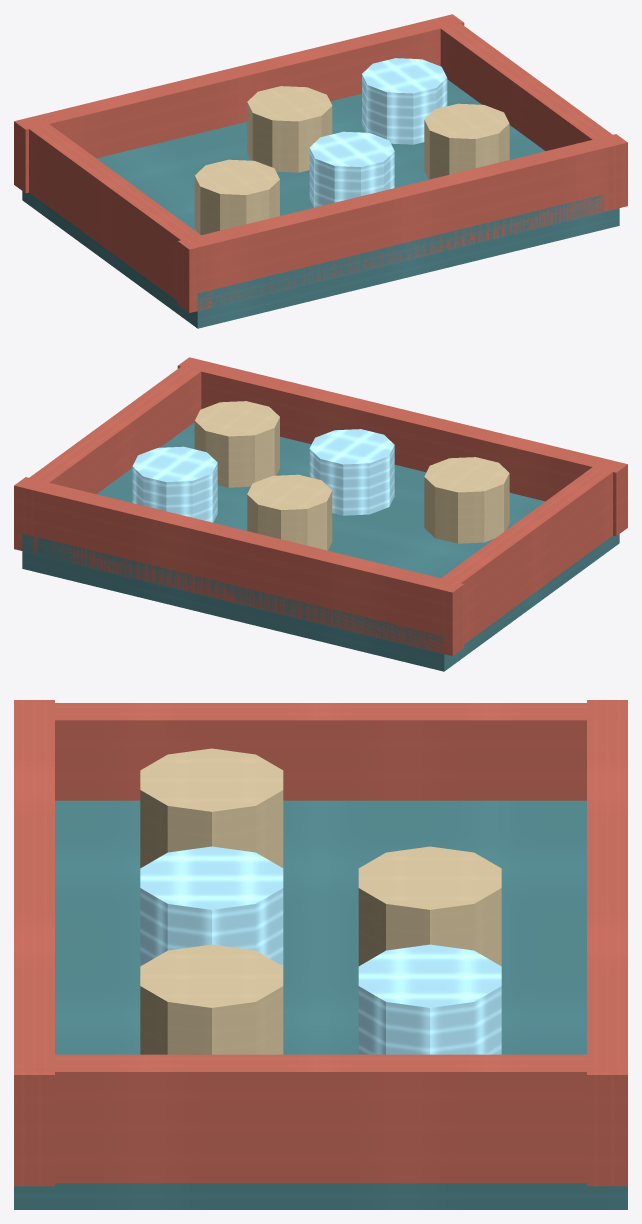
The model's file is atlas100-s073-a03.lod1.glb.
3 renders of one model, top to bottom at view 1: azimuth 30°, elevation 25°; view 2: azimuth 150°, elevation 25°; view 3: azimuth 270°, elevation 25°, orthographic. The views are drawn at different scales.
Parts seen in each view (by area): view 1: atlas100-s073-a03:part-002, atlas100-s073-a03:part-000, atlas100-s073-a03:part-001, atlas100-s073-a03:part-003, atlas100-s073-a03:part-004, atlas100-s073-a03:part-007, atlas100-s073-a03:part-006, atlas100-s073-a03:part-009, atlas100-s073-a03:part-010, atlas100-s073-a03:part-008; view 2: atlas100-s073-a03:part-001, atlas100-s073-a03:part-000, atlas100-s073-a03:part-002, atlas100-s073-a03:part-003, atlas100-s073-a03:part-004, atlas100-s073-a03:part-008, atlas100-s073-a03:part-009, atlas100-s073-a03:part-010, atlas100-s073-a03:part-006, atlas100-s073-a03:part-007; view 3: atlas100-s073-a03:part-000, atlas100-s073-a03:part-004, atlas100-s073-a03:part-003, atlas100-s073-a03:part-001, atlas100-s073-a03:part-002, atlas100-s073-a03:part-007, atlas100-s073-a03:part-010, atlas100-s073-a03:part-008, atlas100-s073-a03:part-006, atlas100-s073-a03:part-009.
Boxes of the visible parts, bbox=[...] form: atlas100-s073-a03:part-002: bbox=[177, 134, 627, 312]; atlas100-s073-a03:part-000: bbox=[22, 79, 619, 328]; atlas100-s073-a03:part-001: bbox=[14, 14, 464, 193]; atlas100-s073-a03:part-003: bbox=[29, 124, 212, 311]; atlas100-s073-a03:part-004: bbox=[430, 15, 624, 211]; atlas100-s073-a03:part-007: bbox=[362, 58, 447, 144]; atlas100-s073-a03:part-006: bbox=[247, 86, 332, 172]; atlas100-s073-a03:part-009: bbox=[309, 131, 394, 207]; atlas100-s073-a03:part-010: bbox=[424, 103, 509, 179]; atlas100-s073-a03:part-008: bbox=[194, 159, 279, 235]; atlas100-s073-a03:part-001: bbox=[14, 477, 464, 655]; atlas100-s073-a03:part-000: bbox=[22, 422, 619, 671]; atlas100-s073-a03:part-002: bbox=[177, 357, 627, 536]; atlas100-s073-a03:part-003: bbox=[429, 467, 612, 654]; atlas100-s073-a03:part-004: bbox=[17, 358, 211, 554]; atlas100-s073-a03:part-008: bbox=[424, 457, 509, 543]; atlas100-s073-a03:part-009: bbox=[309, 429, 394, 515]; atlas100-s073-a03:part-010: bbox=[194, 401, 279, 487]; atlas100-s073-a03:part-006: bbox=[247, 474, 332, 550]; atlas100-s073-a03:part-007: bbox=[132, 446, 217, 522]; atlas100-s073-a03:part-000: bbox=[14, 800, 627, 1209]; atlas100-s073-a03:part-004: bbox=[14, 1054, 627, 1183]; atlas100-s073-a03:part-003: bbox=[14, 703, 627, 800]; atlas100-s073-a03:part-001: bbox=[587, 700, 627, 1186]; atlas100-s073-a03:part-002: bbox=[14, 700, 54, 1186]; atlas100-s073-a03:part-007: bbox=[358, 944, 501, 1054]; atlas100-s073-a03:part-010: bbox=[140, 944, 283, 1054]; atlas100-s073-a03:part-008: bbox=[140, 748, 283, 868]; atlas100-s073-a03:part-006: bbox=[358, 846, 501, 966]; atlas100-s073-a03:part-009: bbox=[140, 846, 283, 966].
Size of the model in its own units: 1.36 by 0.2563 by 0.9414.
4 materials, 4 textured.
